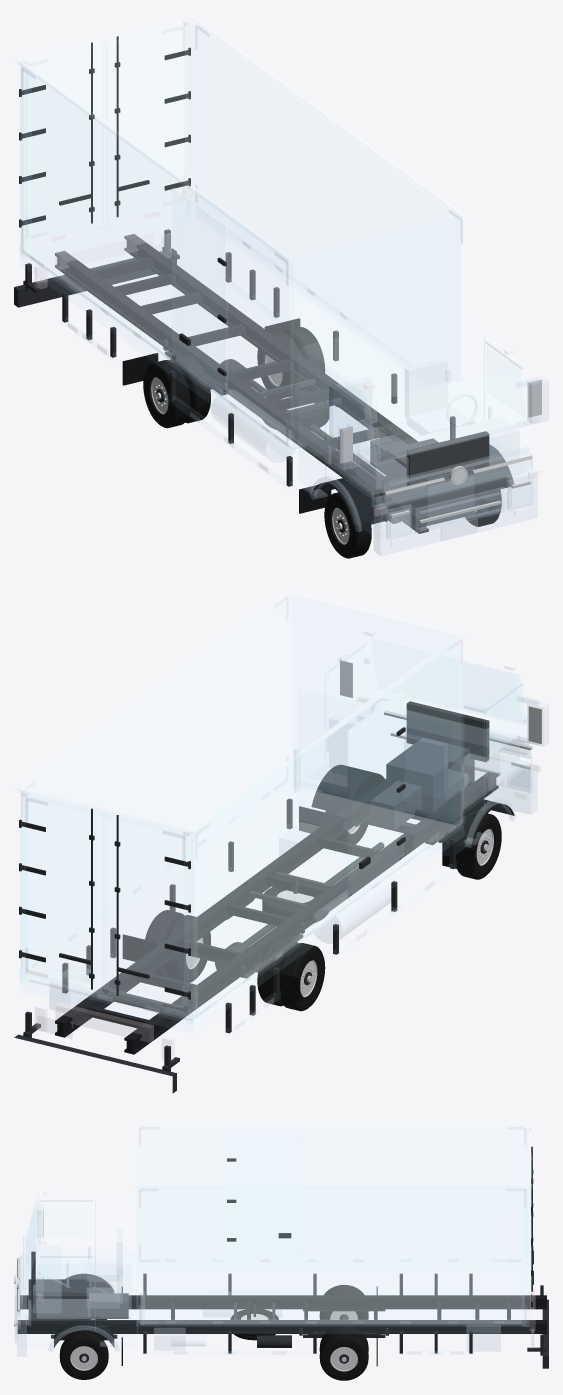
File: vw_delivery_lrr_raiox.glb
The picture shows the model from 3 angles, top to bottom: view 1: azimuth 30°, elevation 25°; view 2: azimuth 150°, elevation 25°; view 3: azimuth 270°, elevation 25°; orthographic projection. The views are drawn at different scales.
Parts seen in each view (by area): view 1: Floor, Rail_Flange_Top (×2), Tire (×6), Front_Bumper, Seat_Back (×2), Rail_Web (×2), Dashboard, Engine, Crossmember (×5), Radiator, Wheel_Arch_Liner (×2), Grille_Panel (+13 smaller); view 2: Floor, Rail_Flange_Top (×2), Tire (×5), Rail_Web (×2), Engine, Dashboard, Crossmember (×6), Wheel_Arch_Liner (×2), Seat_Back (×2), Radiator, Mud_Flap (×4), Rail_Flange_Bottom (×2) (+8 smaller); view 3: Floor, Rail_Web (×2), Rail_Flange_Top (×2), Cab_Floor, Tire (×4), Rail_Flange_Bottom (×2), Engine, Dashboard, Seat_Base (×2), Wheel_Arch_Liner (×2), Gearbox, Rim_Barrel (×2) (+8 smaller).
Part boxes in pixels (x1,y1,x2,y2): Floor: (31, 215, 425, 449); Rail_Flange_Top (×2): (55, 234, 498, 521); Tire (×6): (143, 327, 371, 558); Front_Bumper: (374, 468, 537, 555); Seat_Back (×2): (329, 359, 447, 437); Rail_Web (×2): (57, 240, 496, 532); Dashboard: (357, 417, 519, 489); Engine: (386, 438, 474, 525); Crossmember (×5): (93, 257, 332, 409); Radiator: (406, 431, 489, 491); Wheel_Arch_Liner (×2): (311, 444, 513, 525); Grille_Panel: (382, 447, 531, 503); Floor: (29, 786, 455, 1020); Rail_Flange_Top (×2): (55, 771, 498, 1042); Tire (×5): (145, 813, 501, 1011); Rail_Web (×2): (57, 778, 496, 1053); Engine: (386, 737, 474, 812); Dashboard: (357, 702, 519, 773); Crossmember (×6): (87, 837, 379, 1028); Wheel_Arch_Liner (×2): (311, 764, 514, 846); Seat_Back (×2): (329, 716, 447, 794); Radiator: (406, 701, 489, 761); Mud_Flap (×4): (122, 806, 474, 1001); Rail_Flange_Bottom (×2): (55, 785, 498, 1054); Floor: (141, 1266, 524, 1324); Rail_Web (×2): (17, 1300, 546, 1331); Rail_Flange_Top (×2): (17, 1295, 546, 1325); Cab_Floor: (37, 1264, 131, 1318); Tire (×4): (59, 1308, 368, 1380); Rail_Flange_Bottom (×2): (17, 1306, 546, 1333); Engine: (28, 1279, 88, 1319); Dashboard: (33, 1245, 61, 1312); Seat_Base (×2): (87, 1261, 119, 1308); Wheel_Arch_Liner (×2): (54, 1273, 114, 1347); Gearbox: (89, 1293, 128, 1318); Rim_Barrel (×2): (71, 1346, 357, 1370).
Bounding box in the file's own units: 2.72 × 3.5 × 8.44.
